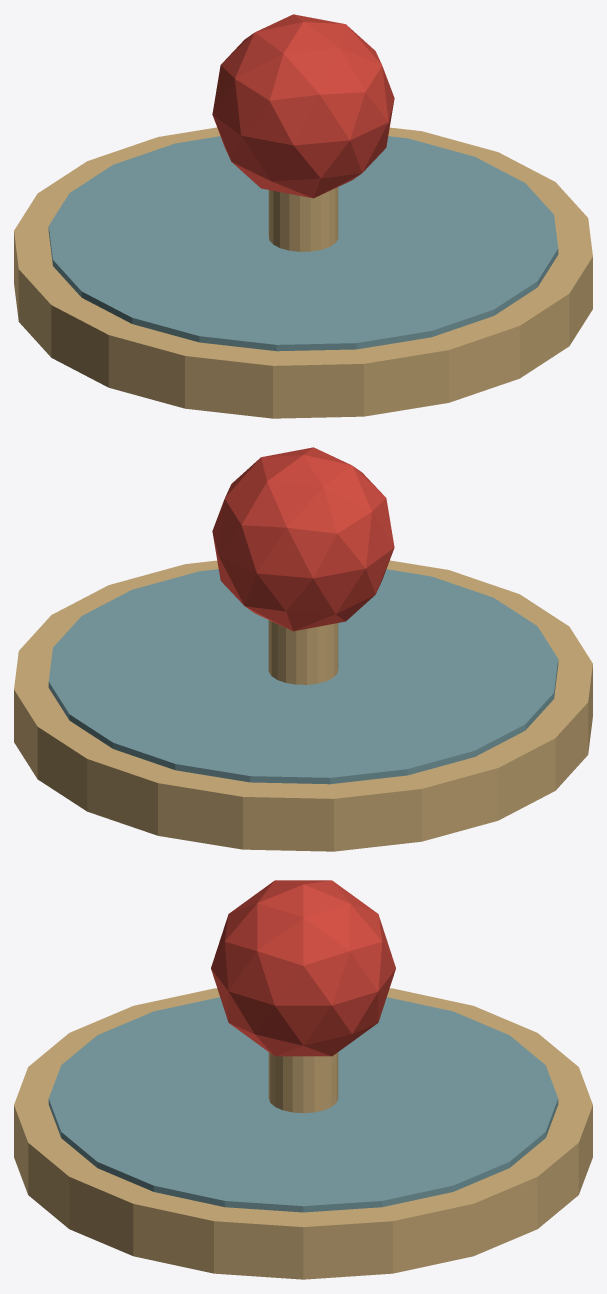
The picture shows the model from 3 angles, top to bottom: view 1: azimuth 30°, elevation 25°; view 2: azimuth 150°, elevation 25°; view 3: azimuth 270°, elevation 25°; orthographic projection.
Visible parts, largest first — view 1: RC-026 Plaza fountain batched; view 2: RC-026 Plaza fountain batched; view 3: RC-026 Plaza fountain batched.
Boxes of the visible parts, bbox=[...] form: RC-026 Plaza fountain batched: bbox=[14, 14, 592, 418]; RC-026 Plaza fountain batched: bbox=[14, 447, 592, 851]; RC-026 Plaza fountain batched: bbox=[14, 880, 592, 1279].
Bounding box in the file's own units: 5 × 2.6 × 5.
